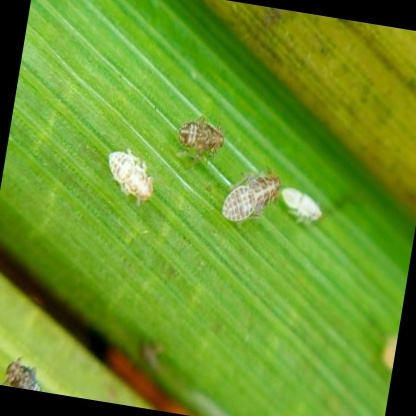Brown_hopper: (211, 157, 292, 238), (89, 136, 171, 212), (164, 106, 241, 163)
